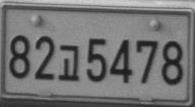2: (34, 34, 54, 79)
4: (109, 38, 132, 83)
5: (86, 37, 107, 82)
7: (135, 39, 158, 83)
8: (160, 39, 183, 85), (8, 34, 31, 79)
고: (58, 44, 79, 81)
